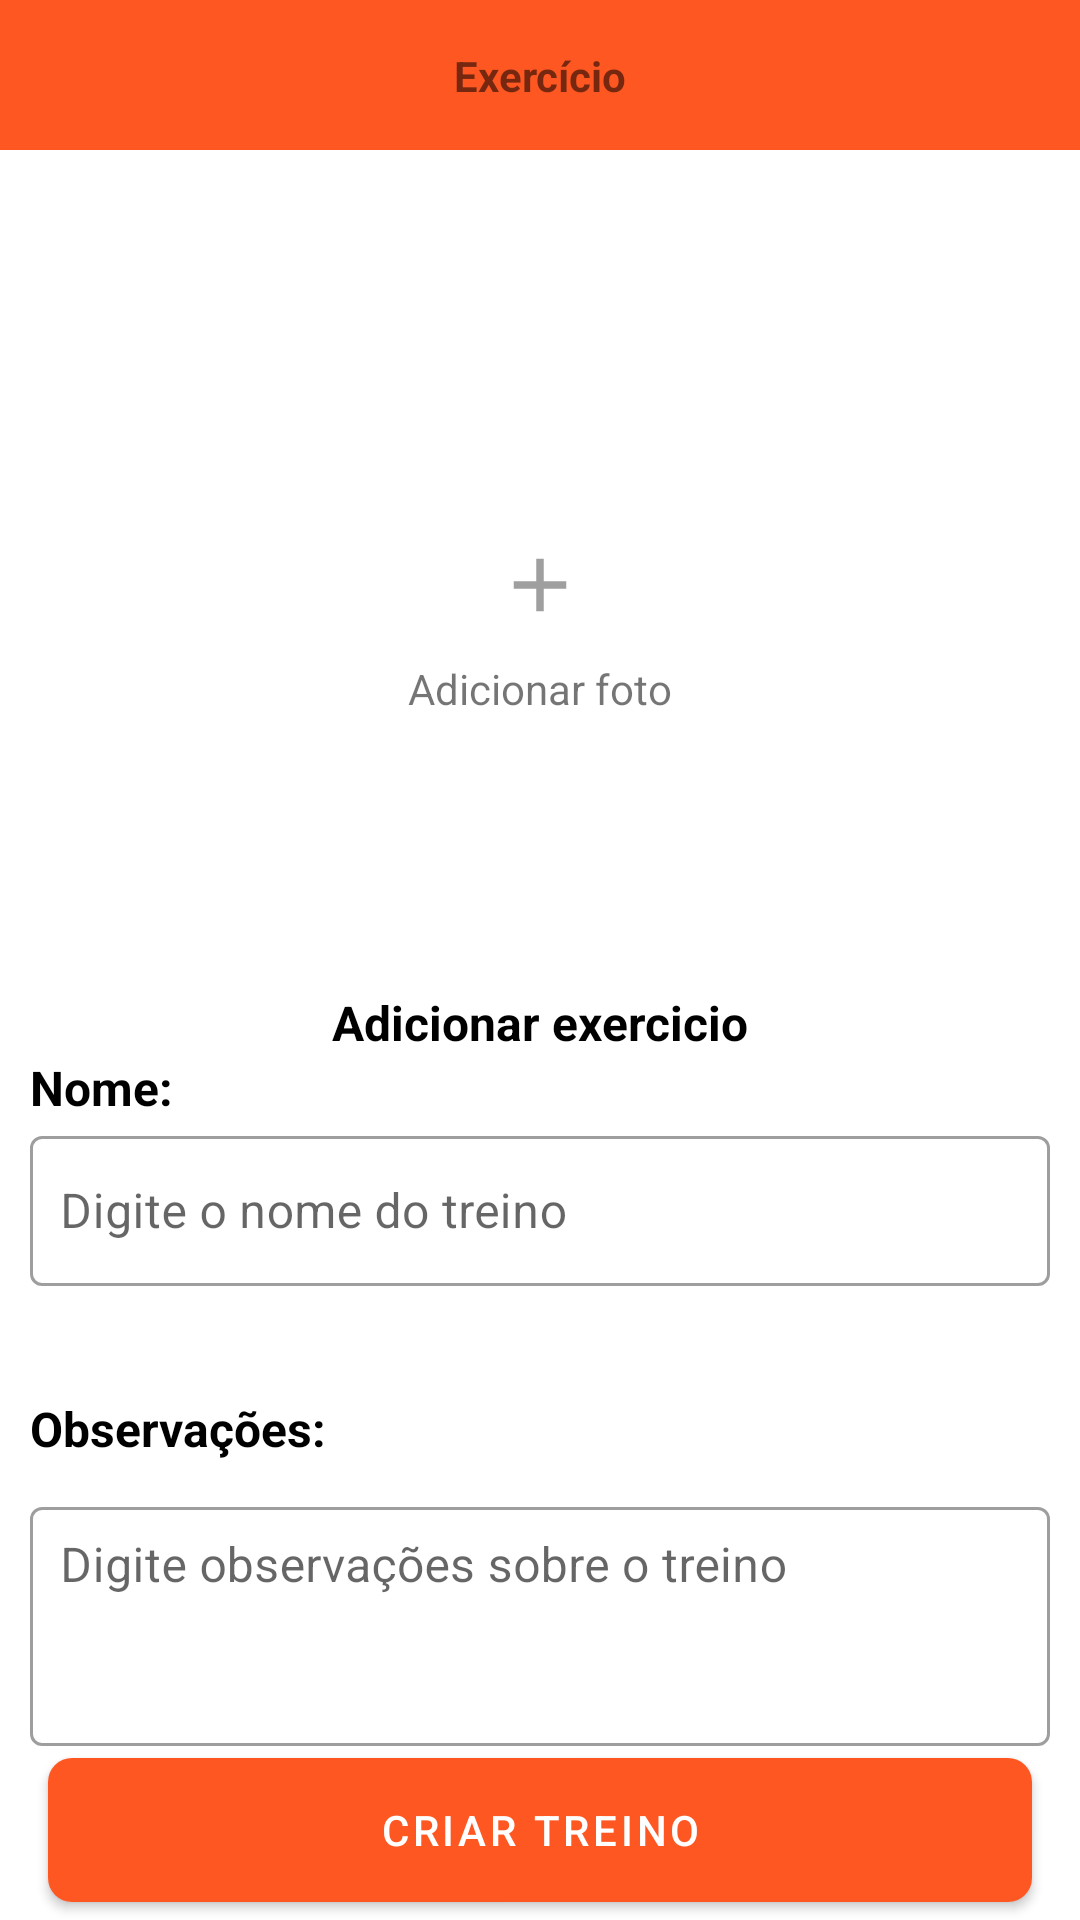

Icons on this 1080px×1920px Android screen, each with its box as (x1=x1, y1=y1, x2=x2, y2=y2):
add: (x1=514, y1=559, x2=566, y2=611)
